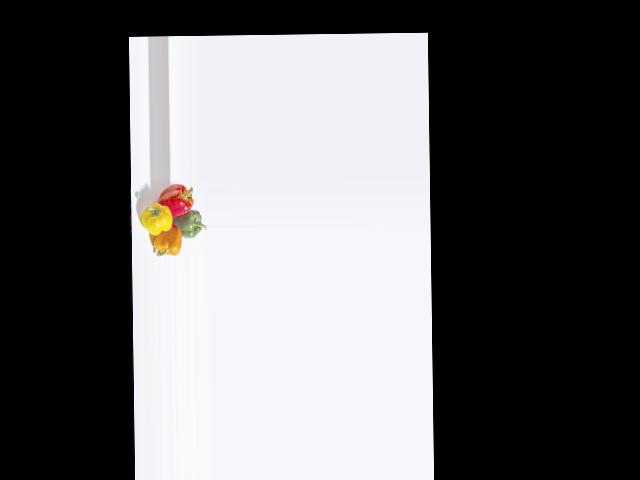bell_pepper: (158, 182, 197, 217)
